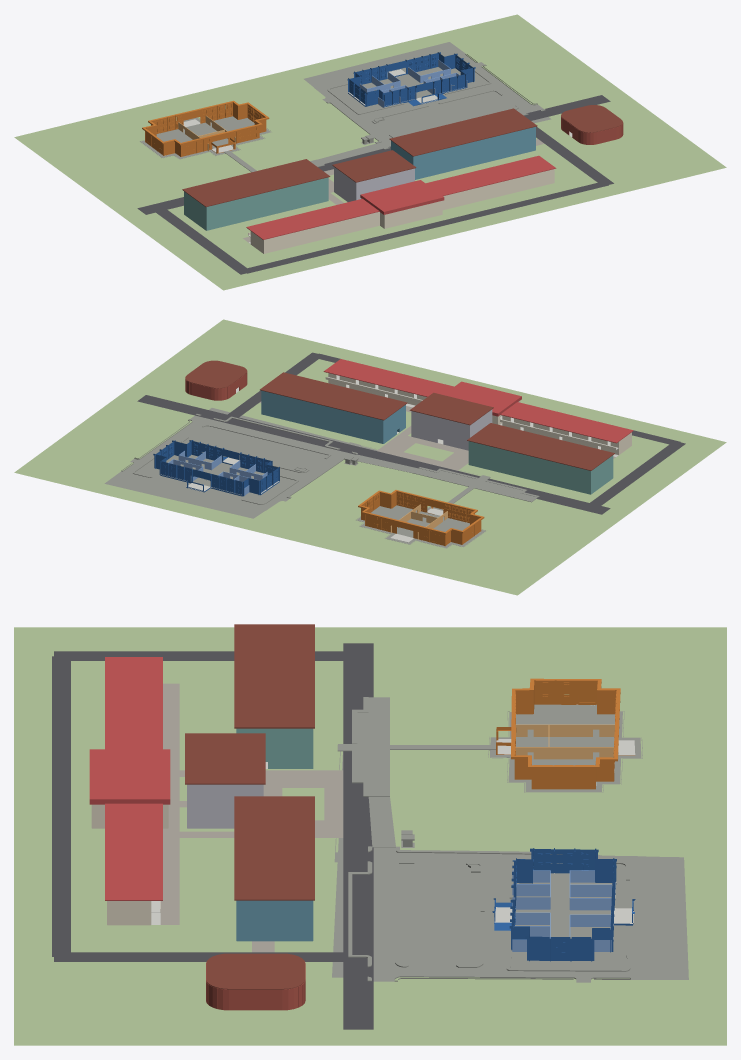
File: KampusPolbeng.obj
3 views of the same model, one above another, from view 1: azimuth 30°, elevation 25°; view 2: azimuth 150°, elevation 25°; view 3: azimuth 270°, elevation 25° (orthographic). The views are drawn at different scales.
Parts seen in each view (by area): view 1: Tanah, Tapak_SiteplanLama_Jalan_Lama, GedungC_Atap, Jalan, Bahasa_Dinding, GedungPerpustakaan_Dinding_Perpus, GedungTI_Dinding_TI, GKT4_Dinding, GKT4_Atap, Bahasa_Atap, GedungC_L1_Dinding, GedungC_L2_Dinding (+5 smaller); view 2: Tanah, Tapak_SiteplanLama_Jalan_Lama, Jalan, GedungC_Atap, Bahasa_Dinding, GKT4_Dinding, GedungTI_Dinding_TI, GedungPerpustakaan_Dinding_Perpus, GKT4_Atap, Bahasa_Atap, BAAK_Dinding, GedungC_L2_Dinding (+9 smaller); view 3: Tanah, Tapak_SiteplanLama_Jalan_Lama, Jalan, GedungC_Atap, GKT4_Atap, Bahasa_Atap, Paving, GedungPerpustakaan_Dinding_Perpus, GedungTI_Dinding_TI, GedungTI_L1_Sekat, BAAK_Atap, Mesin_Atap (+7 smaller).
Boxes of the visible parts, left/top/right/bottom form: Tanah: left=14, top=14, right=726, bottom=290; Tapak_SiteplanLama_Jalan_Lama: left=139, top=42, right=551, bottom=172; GedungC_Atap: left=246, top=155, right=556, bottom=239; Jalan: left=137, top=95, right=613, bottom=274; Bahasa_Dinding: left=184, top=177, right=328, bottom=230; GedungPerpustakaan_Dinding_Perpus: left=142, top=100, right=269, bottom=156; GedungTI_Dinding_TI: left=347, top=52, right=475, bottom=107; GKT4_Dinding: left=391, top=127, right=535, bottom=179; GKT4_Atap: left=389, top=108, right=537, bottom=156; Bahasa_Atap: left=182, top=159, right=330, bottom=206; GedungC_L1_Dinding: left=250, top=176, right=554, bottom=253; GedungC_L2_Dinding: left=248, top=169, right=554, bottom=246; Tanah: left=14, top=319, right=726, bottom=595; Tapak_SiteplanLama_Jalan_Lama: left=104, top=408, right=539, bottom=548; Jalan: left=137, top=352, right=685, bottom=514; GedungC_Atap: left=323, top=359, right=633, bottom=443; Bahasa_Dinding: left=468, top=441, right=613, bottom=494; GKT4_Dinding: left=261, top=390, right=405, bottom=443; GedungTI_Dinding_TI: left=153, top=440, right=279, bottom=496; GedungPerpustakaan_Dinding_Perpus: left=358, top=490, right=484, bottom=546; GKT4_Atap: left=260, top=372, right=407, bottom=420; Bahasa_Atap: left=467, top=423, right=614, bottom=470; BAAK_Dinding: left=411, top=409, right=492, bottom=450; GedungC_L2_Dinding: left=325, top=373, right=631, bottom=449; Tanah: left=14, top=627, right=726, bottom=1045; Tapak_SiteplanLama_Jalan_Lama: left=332, top=697, right=688, bottom=982; Jalan: left=52, top=643, right=373, bottom=1029; GedungC_Atap: left=89, top=657, right=170, bottom=900; GKT4_Atap: left=234, top=796, right=314, bottom=900; Bahasa_Atap: left=234, top=624, right=314, bottom=728; Paving: left=160, top=683, right=343, bottom=952; GedungPerpustakaan_Dinding_Perpus: left=496, top=678, right=634, bottom=789; GedungTI_Dinding_TI: left=492, top=848, right=635, bottom=961; GedungTI_L1_Sekat: left=512, top=870, right=611, bottom=951; BAAK_Atap: left=185, top=733, right=265, bottom=784; Mesin_Atap: left=206, top=953, right=305, bottom=989.
Bounding box in the file's own units: 260 × 13.8 × 187.
